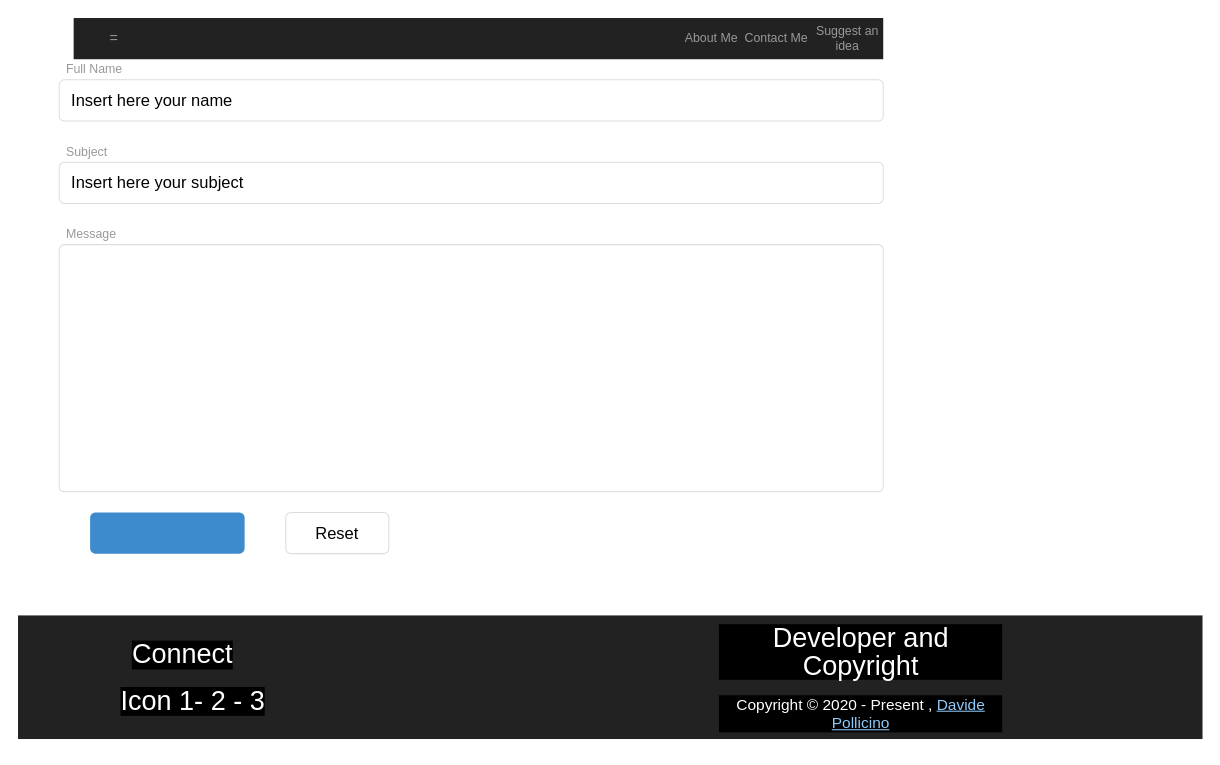
Some shapes in this 1220 by 765 pixel diagram are drawn without their labels. The shapes that lost their labels are listed below. From the top down, each one's box as (x1, y1, x2, y2) in pixels, then its label:
(58, 244, 883, 492): LOREM IPSUM
(90, 512, 244, 553): Send
